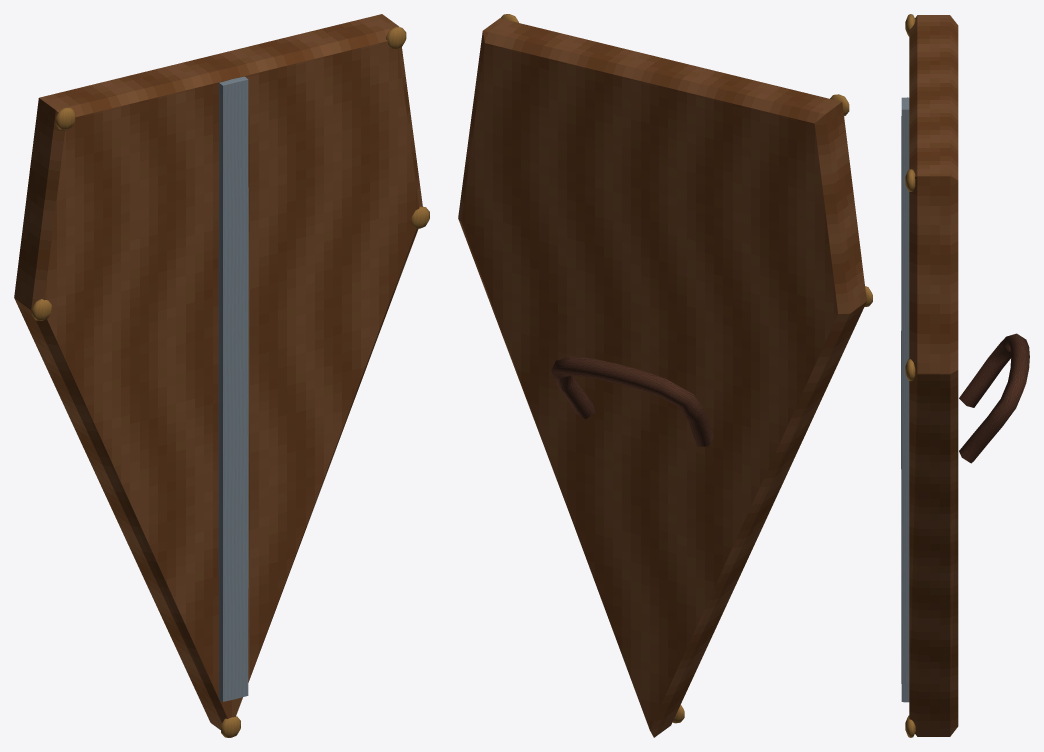
The model's file is kite-shield.lod2.glb.
3 renders of one model, left to right at view 1: azimuth 30°, elevation 25°; view 2: azimuth 150°, elevation 25°; view 3: azimuth 270°, elevation 25°, orthographic. The views are drawn at different scales.
Visible parts, largest first — view 1: wood.0, steel.6; view 2: wood.0, leather.7; view 3: wood.0, steel.6, leather.7.
Boxes of the visible parts, x1=… form: wood.0: x1=14, y1=14, x2=422, y2=729; steel.6: x1=218, y1=76, x2=248, y2=701; wood.0: x1=458, y1=18, x2=866, y2=737; leather.7: x1=551, y1=356, x2=713, y2=446; wood.0: x1=909, y1=15, x2=958, y2=736; steel.6: x1=901, y1=97, x2=909, y2=702; leather.7: x1=959, y1=333, x2=1029, y2=463.
Bounding box in the file's own units: 0.6742 × 1.09 × 0.1968.
Materials: 4 (4 with a texture image).
